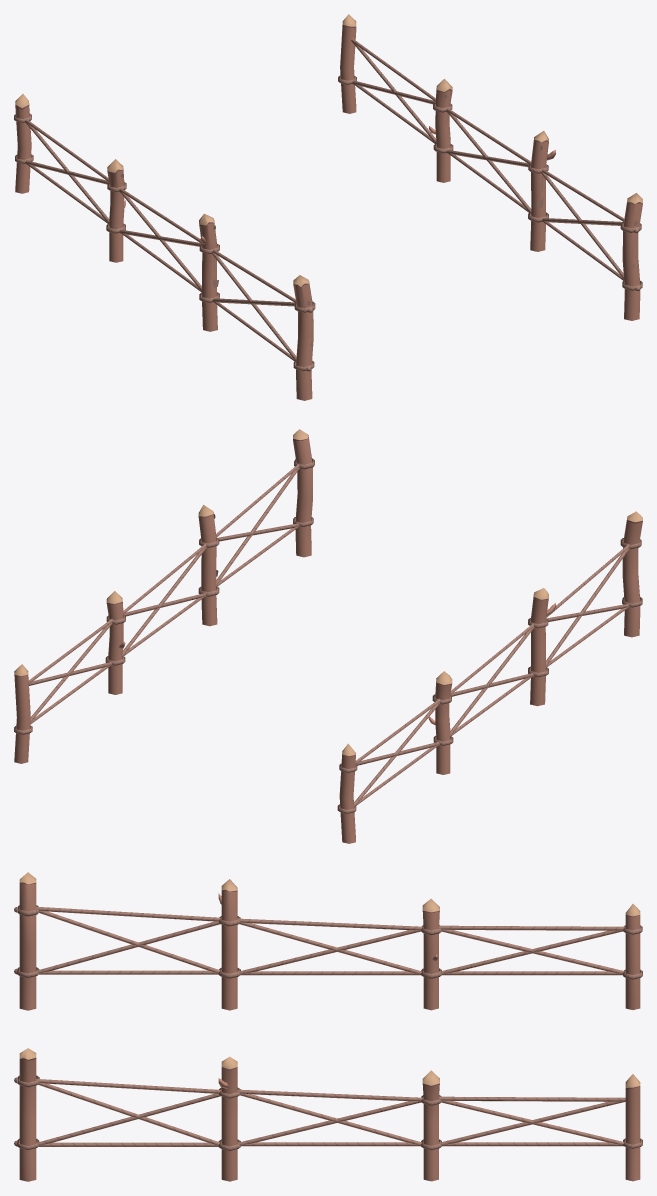
Rendered from Mesh_Adventure_Canyon_Bridge_02_SM.fbx.
3 views of the same model, one above another, from view 1: azimuth 30°, elevation 25°; view 2: azimuth 150°, elevation 25°; view 3: azimuth 270°, elevation 25° (orthographic). The views are drawn at different scales.
Parts seen in each view (by area): view 1: Mesh_Adventure_Canyon_Bridge_02; view 2: Mesh_Adventure_Canyon_Bridge_02; view 3: Mesh_Adventure_Canyon_Bridge_02.
Boxes of the visible parts, box(x1,y1,x2,y2) form: Mesh_Adventure_Canyon_Bridge_02: box(14, 14, 642, 400); Mesh_Adventure_Canyon_Bridge_02: box(14, 429, 642, 843); Mesh_Adventure_Canyon_Bridge_02: box(14, 872, 642, 1181).
Bounding box in the file's own units: 190 × 63.13 × 272.
1 material, 1 textured.
